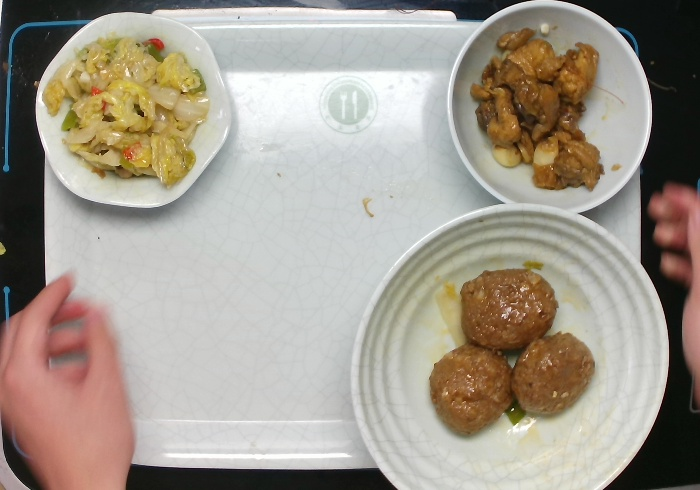JYsf-Da_Tang_Wan: (346, 203, 672, 490)
JYsf-Fan_Wan: (443, 1, 656, 215)
WCQzf-Hua_Duo_Wan: (31, 10, 235, 210)
